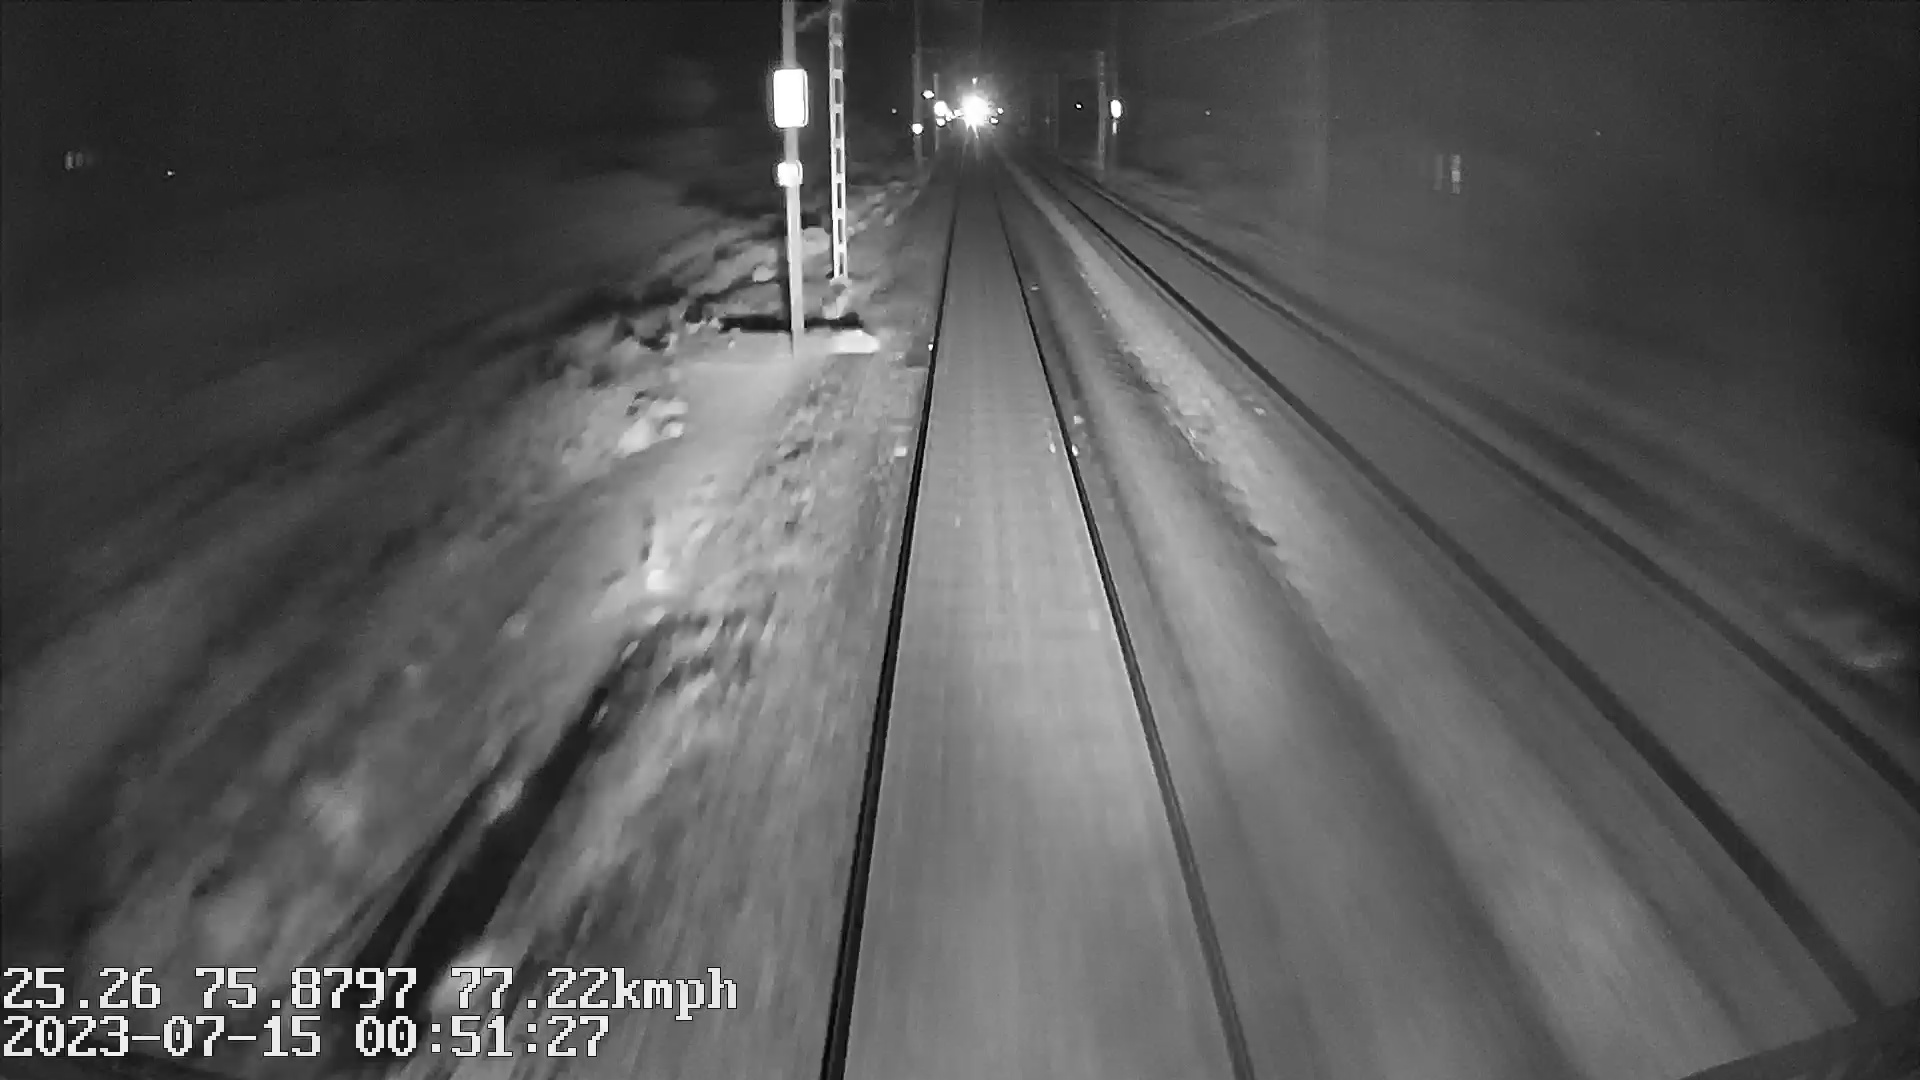track1: (837, 177, 1234, 1048)
track2: (1043, 171, 1905, 901)
